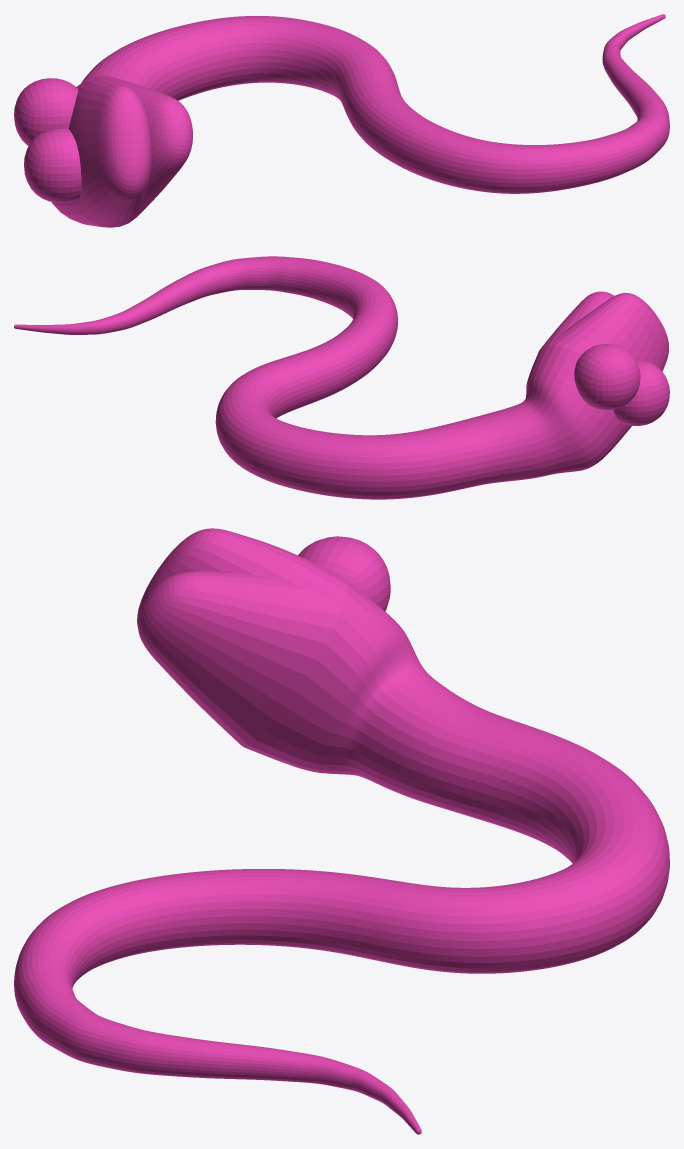
File: snake7.glb
The picture shows the model from 3 angles, top to bottom: view 1: azimuth 30°, elevation 25°; view 2: azimuth 150°, elevation 25°; view 3: azimuth 270°, elevation 25°; orthographic projection. The views are drawn at different scales.
Parts seen in each view (by area): view 1: Cube.003; view 2: Cube.003; view 3: Cube.003.
Boxes of the visible parts, bbox=[...] form: Cube.003: bbox=[14, 14, 669, 227]; Cube.003: bbox=[14, 256, 669, 499]; Cube.003: bbox=[14, 528, 669, 1134].
Size of the model in its own units: 0.6518 by 0.1498 by 0.3884.
